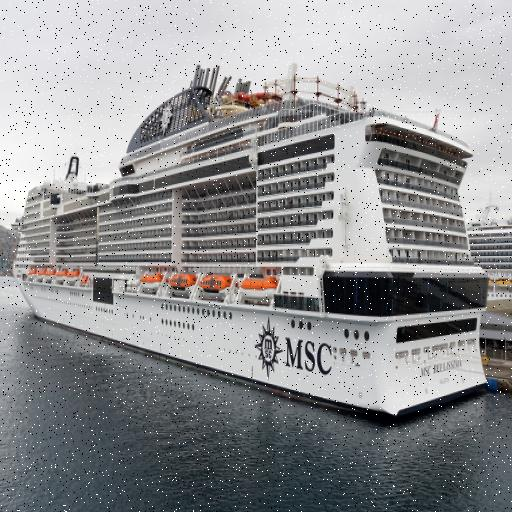cruises: (10, 61, 492, 433)
